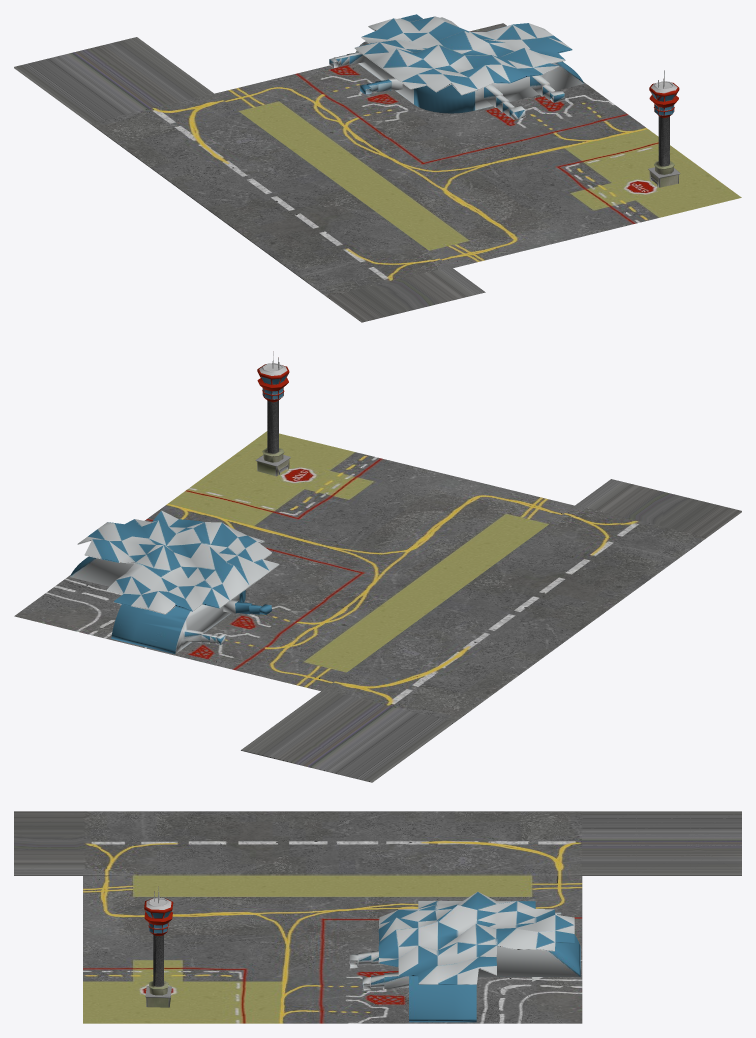
File: Aeroporto_Temporario_C400.glb
The picture shows the model from 3 angles, top to bottom: view 1: azimuth 30°, elevation 25°; view 2: azimuth 150°, elevation 25°; view 3: azimuth 270°, elevation 25°; orthographic projection. The views are drawn at different scales.
Parts seen in each view (by area): view 1: pPlane4; view 2: pPlane4; view 3: pPlane4.
Part boxes in pixels (x1,y1,x2,y2): pPlane4: (14, 14, 741, 322); pPlane4: (14, 351, 741, 782); pPlane4: (14, 811, 741, 1023).
Bounding box in the file's own units: 94.94 × 24.43 × 138.
1 material, 1 textured.
